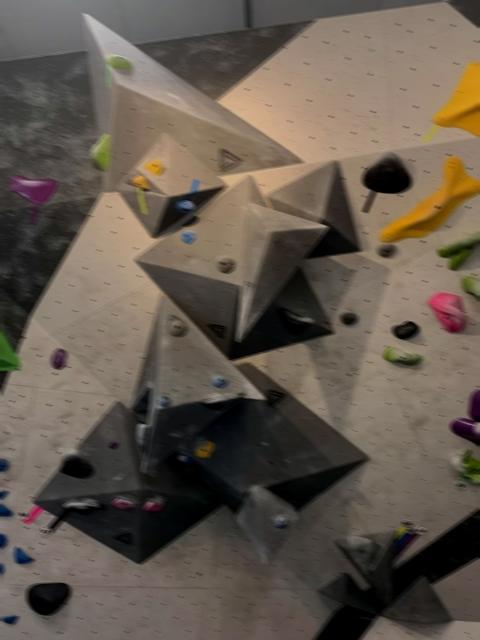crimp: (194, 441, 214, 457), (110, 498, 134, 509), (210, 374, 228, 388), (143, 500, 162, 511), (181, 230, 195, 243)
jib: (157, 395, 171, 407), (108, 441, 118, 448)
jug: (362, 152, 412, 192), (59, 448, 93, 478), (277, 307, 314, 333), (90, 133, 110, 171), (63, 498, 106, 514), (202, 393, 244, 409), (137, 423, 150, 460), (144, 158, 163, 175), (131, 174, 149, 190), (175, 199, 195, 213), (272, 514, 288, 528), (178, 454, 194, 463)
pinch: (383, 346, 422, 365)
sidepull: (379, 157, 480, 242), (428, 292, 466, 332)
sloper: (26, 582, 71, 615), (106, 54, 132, 71)
tape: (395, 526, 427, 560), (396, 525, 417, 550), (396, 519, 413, 540), (363, 190, 376, 212), (186, 179, 199, 198), (137, 187, 146, 214), (30, 204, 39, 223), (455, 478, 466, 489), (106, 63, 110, 87)
volume: (83, 14, 302, 191), (135, 175, 334, 360), (33, 401, 221, 563), (176, 362, 371, 510), (130, 295, 267, 472), (236, 202, 327, 342), (117, 133, 226, 237), (266, 160, 361, 259), (235, 484, 298, 564), (335, 530, 396, 606), (381, 575, 453, 624), (319, 573, 379, 615)
